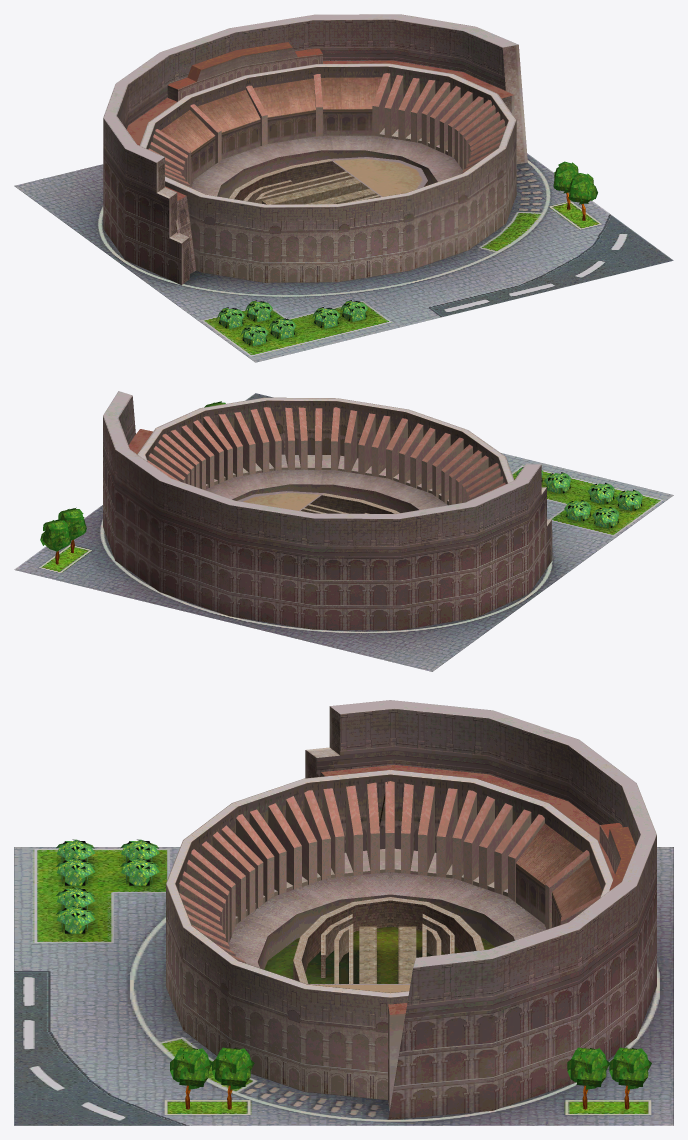
Rendered from juedouchang.FBX.
The picture shows the model from 3 angles, top to bottom: view 1: azimuth 30°, elevation 25°; view 2: azimuth 150°, elevation 25°; view 3: azimuth 270°, elevation 25°; orthographic projection. The views are drawn at different scales.
Parts seen in each view (by area): view 1: juedouchang; view 2: juedouchang; view 3: juedouchang.
Boxes of the visible parts, <box> form: juedouchang: <box>14,14,673,362</box>; juedouchang: <box>14,391,673,671</box>; juedouchang: <box>14,700,673,1125</box>.
Bounding box in the file's own units: 6470 × 1644 × 6470.
